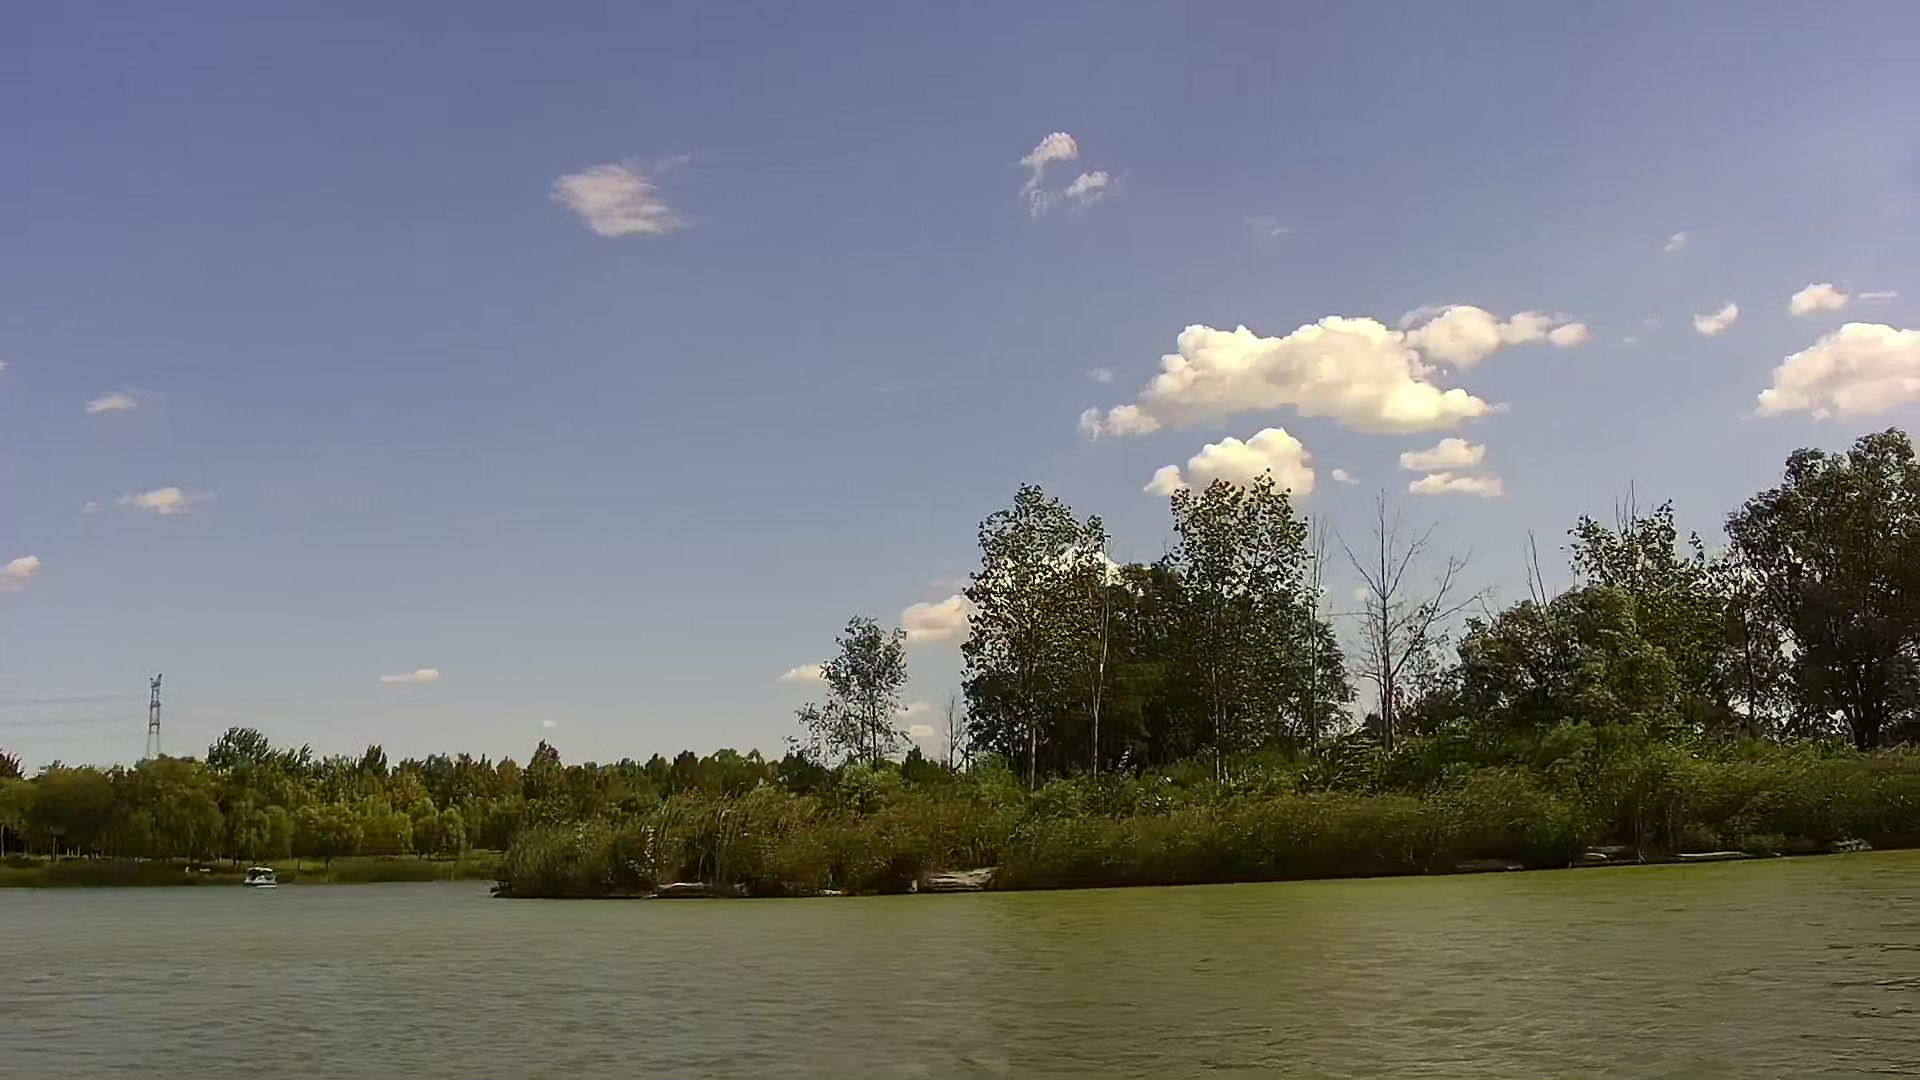boat: (247, 861, 276, 885)
rock: (920, 861, 996, 891), (651, 884, 712, 897)
